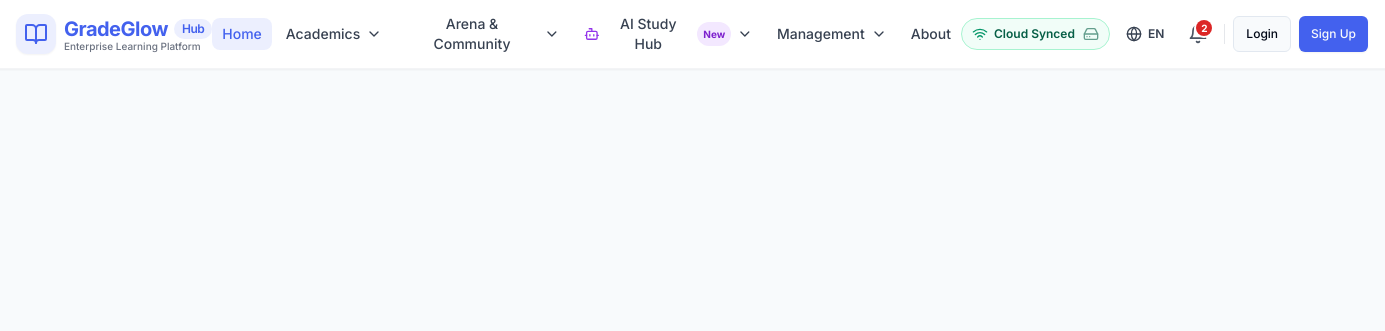
Test: Navbar Component with Dropdown Architecture › opens Academics dropdown on click and displays Courses, Gradebook, Mastery
The image size is (1385, 331).
Click the button "Academics" at (334, 34), box [276,18,392,50]
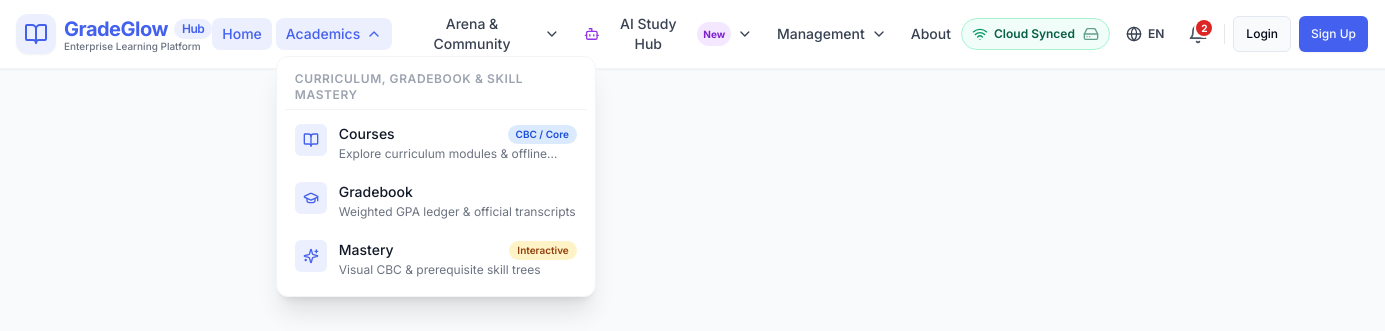
Result: the text "Courses" is shown at [339,124,395,144]
Result: the text "Gradebook" is shown at [339,182,413,202]
Result: the text "Mastery" is shown at [339,240,394,260]
